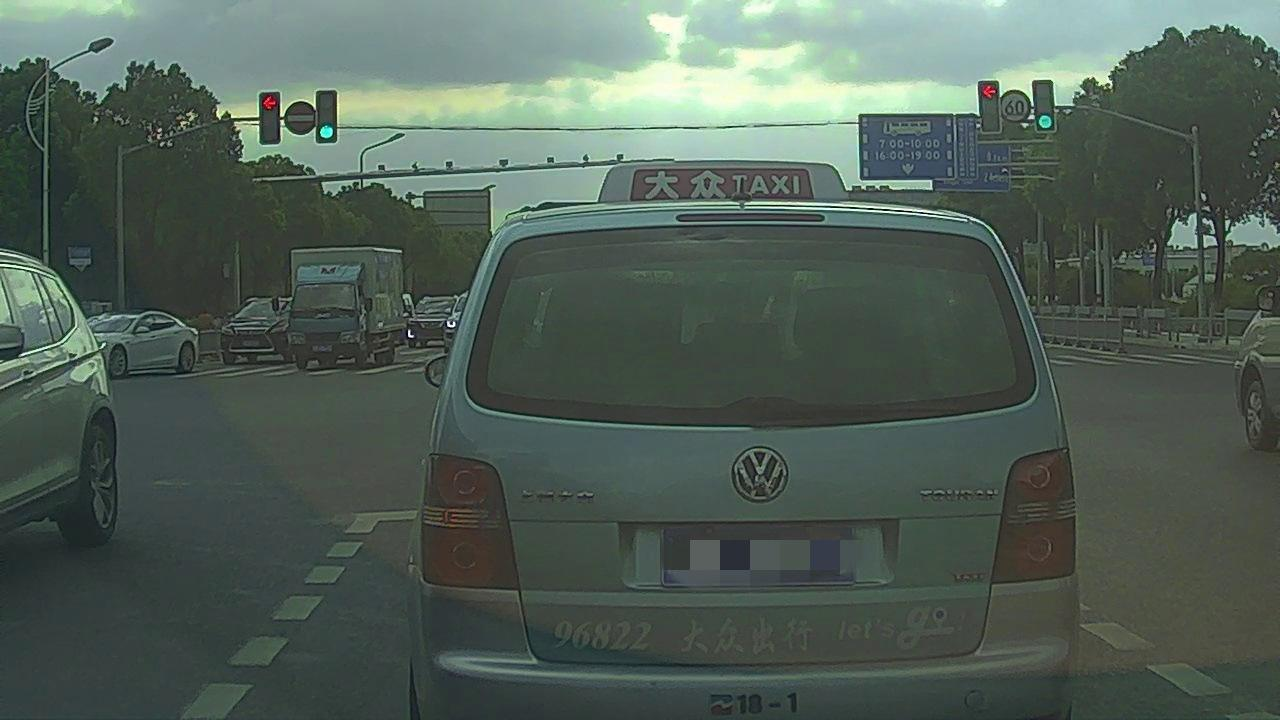traffic_light: (260, 91, 281, 145), (317, 91, 338, 144), (979, 82, 1000, 135), (1034, 82, 1055, 133)
